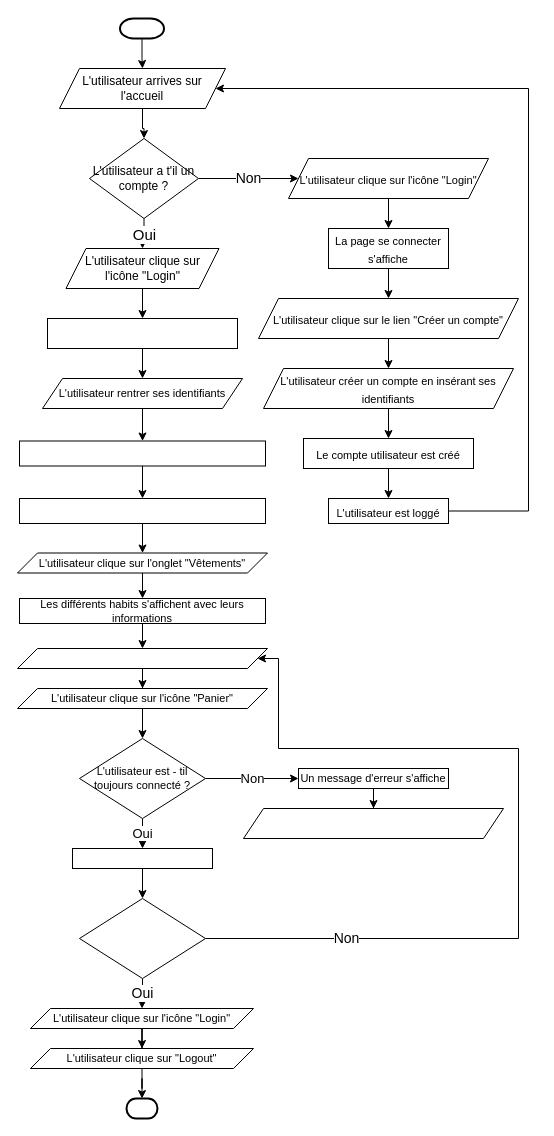
The diagram is 554 pixels wide and 1136 high, and some of its shapes have lost their labels. Each missing label, with the centre of its shape:
Début: pixel 141 28
Fin: pixel 141 1108
L'article est ajouté au panier: pixel 142 858
L'utilisateur a t'il fini ?: pixel 142 938
L'utilisateur choisi un des vêtements: pixel 142 658
L'utilisateur se reconnecte pour ajouter le / les articles: pixel 373 823
La page "Se connecter" s'affiche: pixel 142 333
Le client est redirigé vers l'accueil: pixel 142 453
Un message de bienvenue s'affiche sur l'accueil: pixel 142 511
